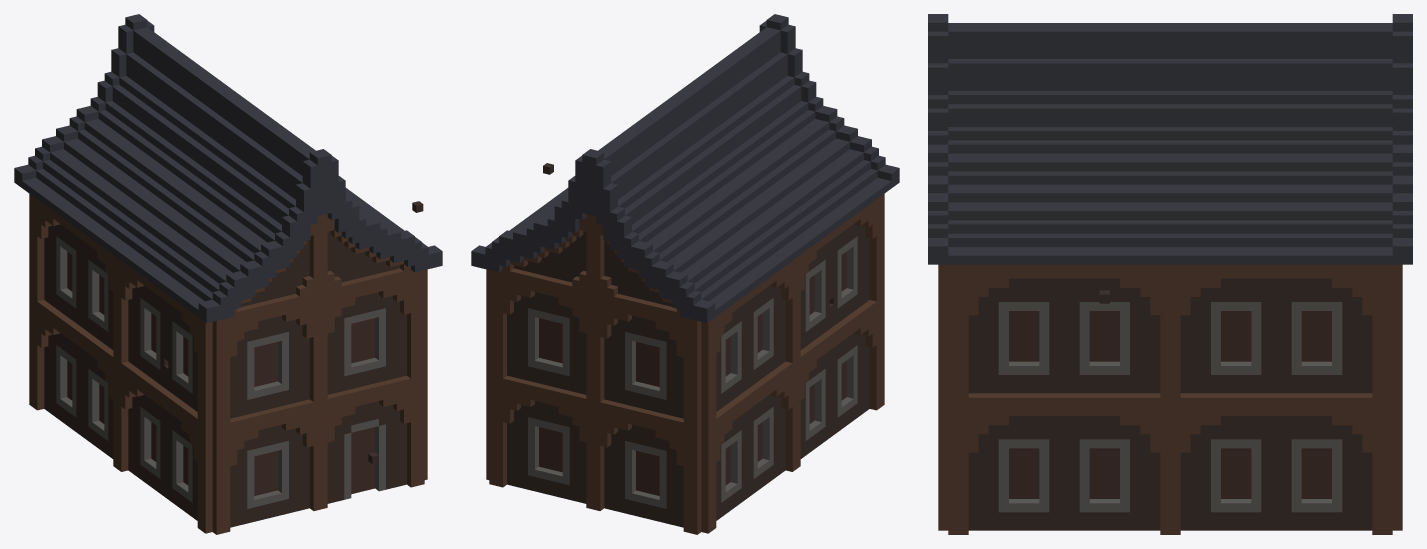
The model's file is House2.obj.
The picture shows the model from 3 angles, left to right: view 1: azimuth 30°, elevation 25°; view 2: azimuth 150°, elevation 25°; view 3: azimuth 270°, elevation 25°; orthographic projection. The views are drawn at different scales.
Bounding box in the file's own units: 4.1 × 4.9 × 4.8.
1 material, 1 textured.
